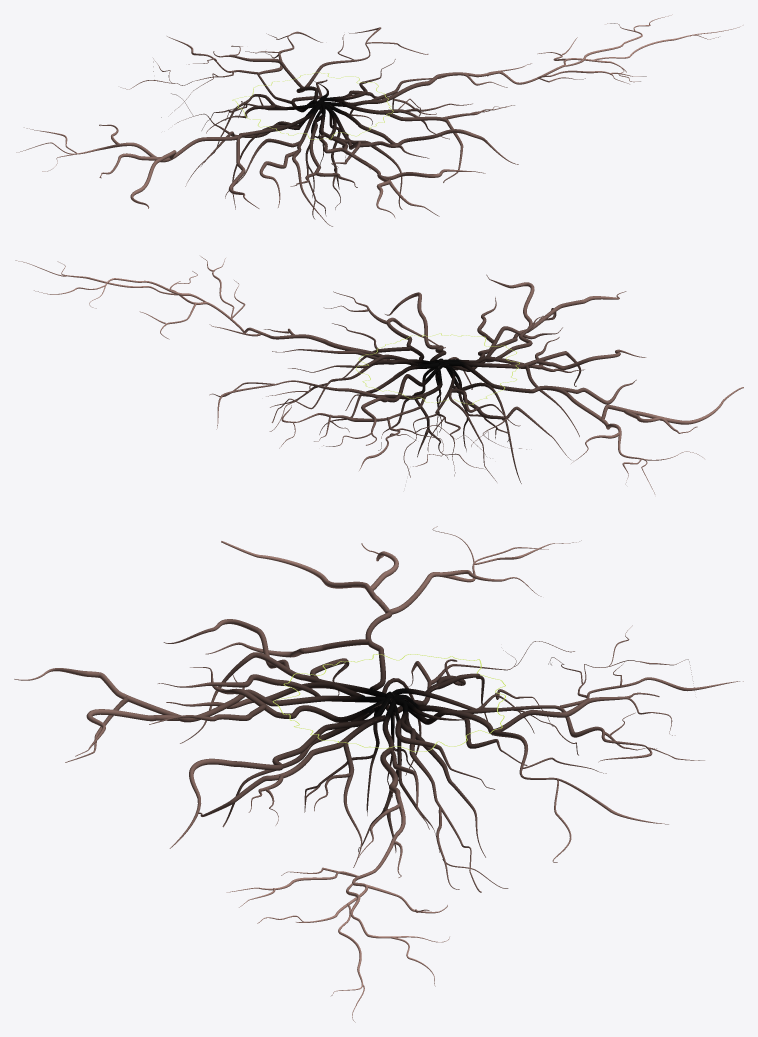
File: Roots2.glb
The picture shows the model from 3 angles, top to bottom: view 1: azimuth 30°, elevation 25°; view 2: azimuth 150°, elevation 25°; view 3: azimuth 270°, elevation 25°; orthographic projection. The views are drawn at different scales.
Parts seen in each view (by area): view 1: BezierCurve.002, Curve.001; view 2: BezierCurve.002, Curve.001; view 3: BezierCurve.002.
Part boxes in pixels (x1,y1,x2,y2): BezierCurve.002: (16,14,742,226); Curve.001: (232,72,393,139); BezierCurve.002: (15,256,743,494); Curve.001: (355,333,519,404); BezierCurve.002: (14,526,743,1022).
Bounding box in the file's own units: 11.31 × 1.66 × 6.98.
Materials: 2 (1 with a texture image).
